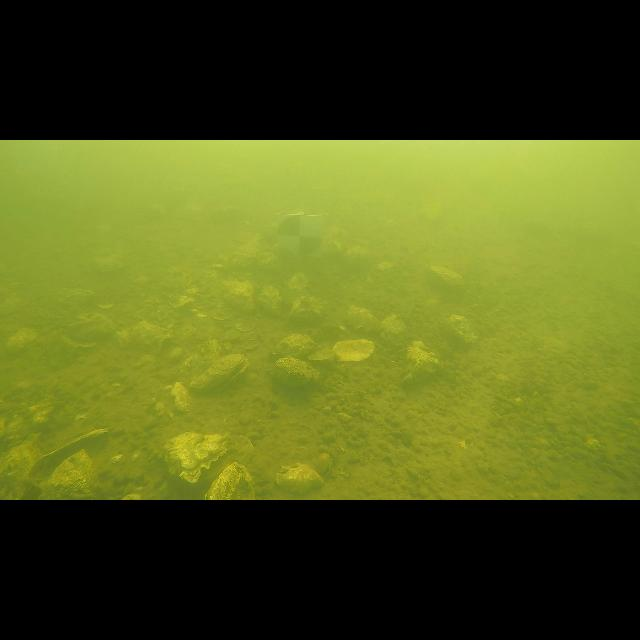Oyster-Closed: (161, 431, 233, 486), (45, 446, 107, 500), (0, 434, 41, 499), (186, 352, 249, 394), (177, 337, 222, 380), (205, 462, 255, 500), (405, 340, 441, 381), (271, 356, 320, 386), (69, 312, 118, 342), (276, 464, 324, 494), (272, 334, 318, 358), (134, 321, 174, 348), (224, 279, 254, 310), (445, 315, 478, 342), (428, 266, 464, 290), (348, 306, 380, 332), (289, 296, 322, 321), (380, 315, 406, 344), (56, 289, 96, 306), (259, 285, 281, 315), (288, 272, 309, 300)
Oyster-Open: (332, 339, 375, 361)
